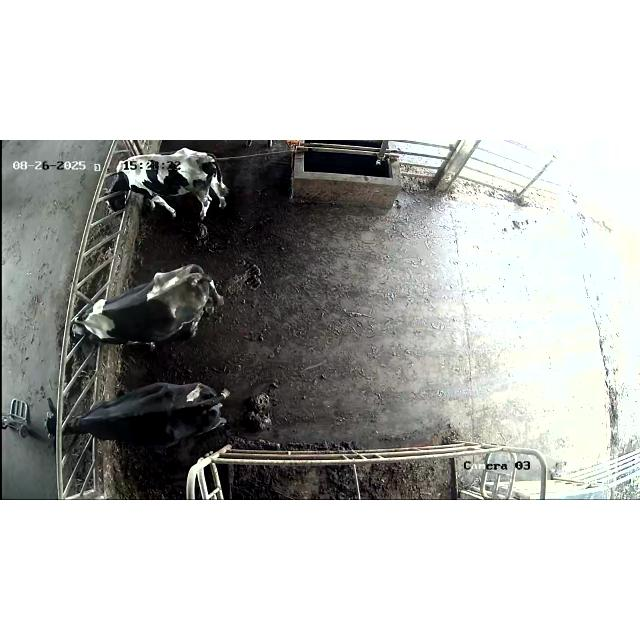eat: (80, 154, 160, 223), (42, 296, 124, 352), (34, 394, 116, 448)
